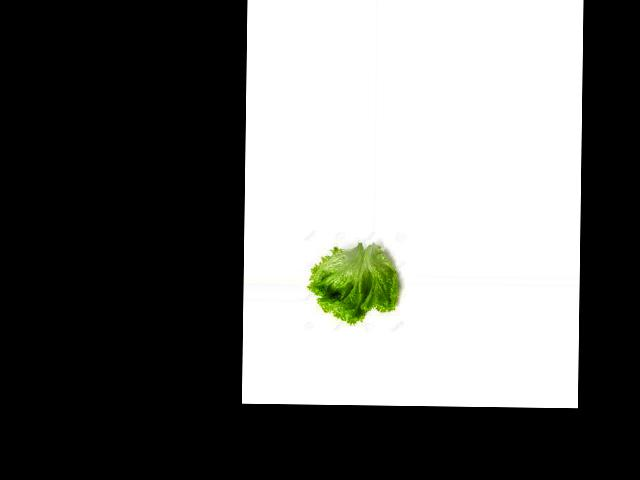lettuce: (302, 229, 407, 332)
